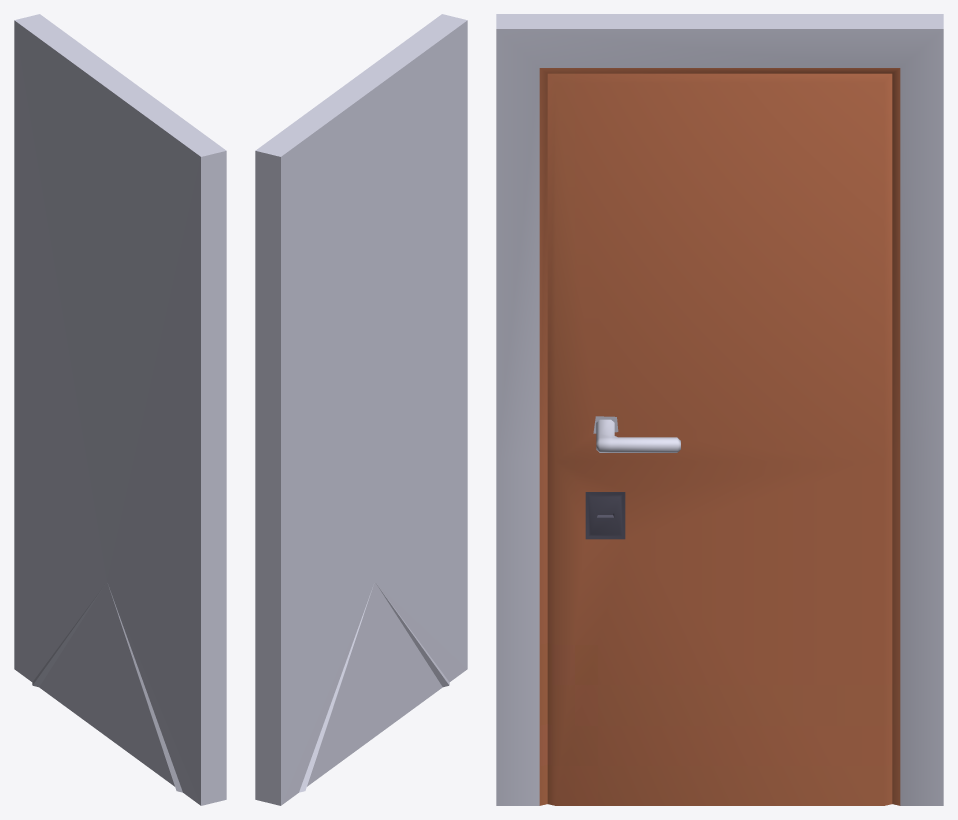
File: obj_wall_door.FBX
3 views of the same model, side by side, from view 1: azimuth 30°, elevation 25°; view 2: azimuth 150°, elevation 25°; view 3: azimuth 270°, elevation 25° (orthographic). The views are drawn at different scales.
Visible parts, largest first — view 1: obj_wall_door; view 2: obj_wall_door; view 3: obj_wall_door.
Boxes of the visible parts, x1,y1,x2,y2 form: obj_wall_door: (14, 14, 226, 805); obj_wall_door: (255, 14, 467, 805); obj_wall_door: (496, 14, 943, 805).
Size of the model in its own units: 0.2101 by 1.92 by 1.
